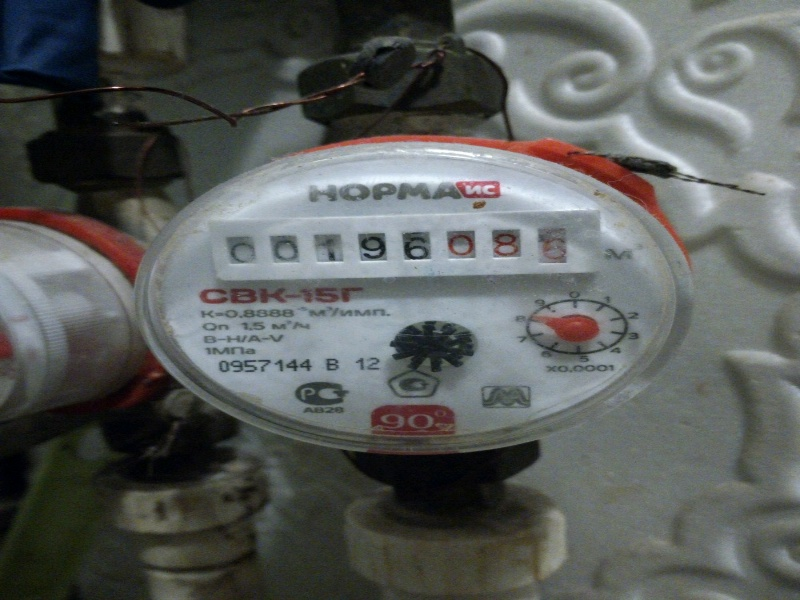meter: (213, 219, 598, 272)
